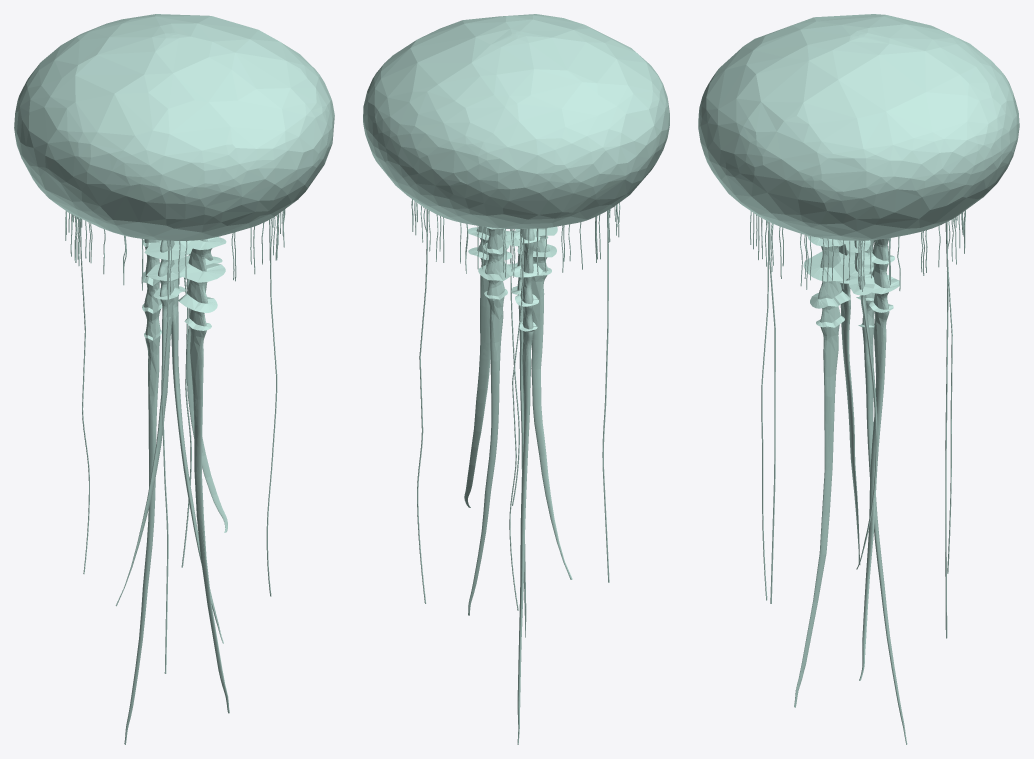
The model's file is jellyfish.fbx.
3 renders of one model, left to right at view 1: azimuth 30°, elevation 25°; view 2: azimuth 150°, elevation 25°; view 3: azimuth 270°, elevation 25°, orthographic. The views are drawn at different scales.
Parts seen in each view (by area): view 1: Line01; view 2: Line01; view 3: Line01.
Part boxes in pixels (x1,y1,x2,y2): Line01: (14,14,334,744); Line01: (363,14,669,744); Line01: (698,14,1019,744).
Size of the model in its own units: 56.4 by 140 by 56.39.
